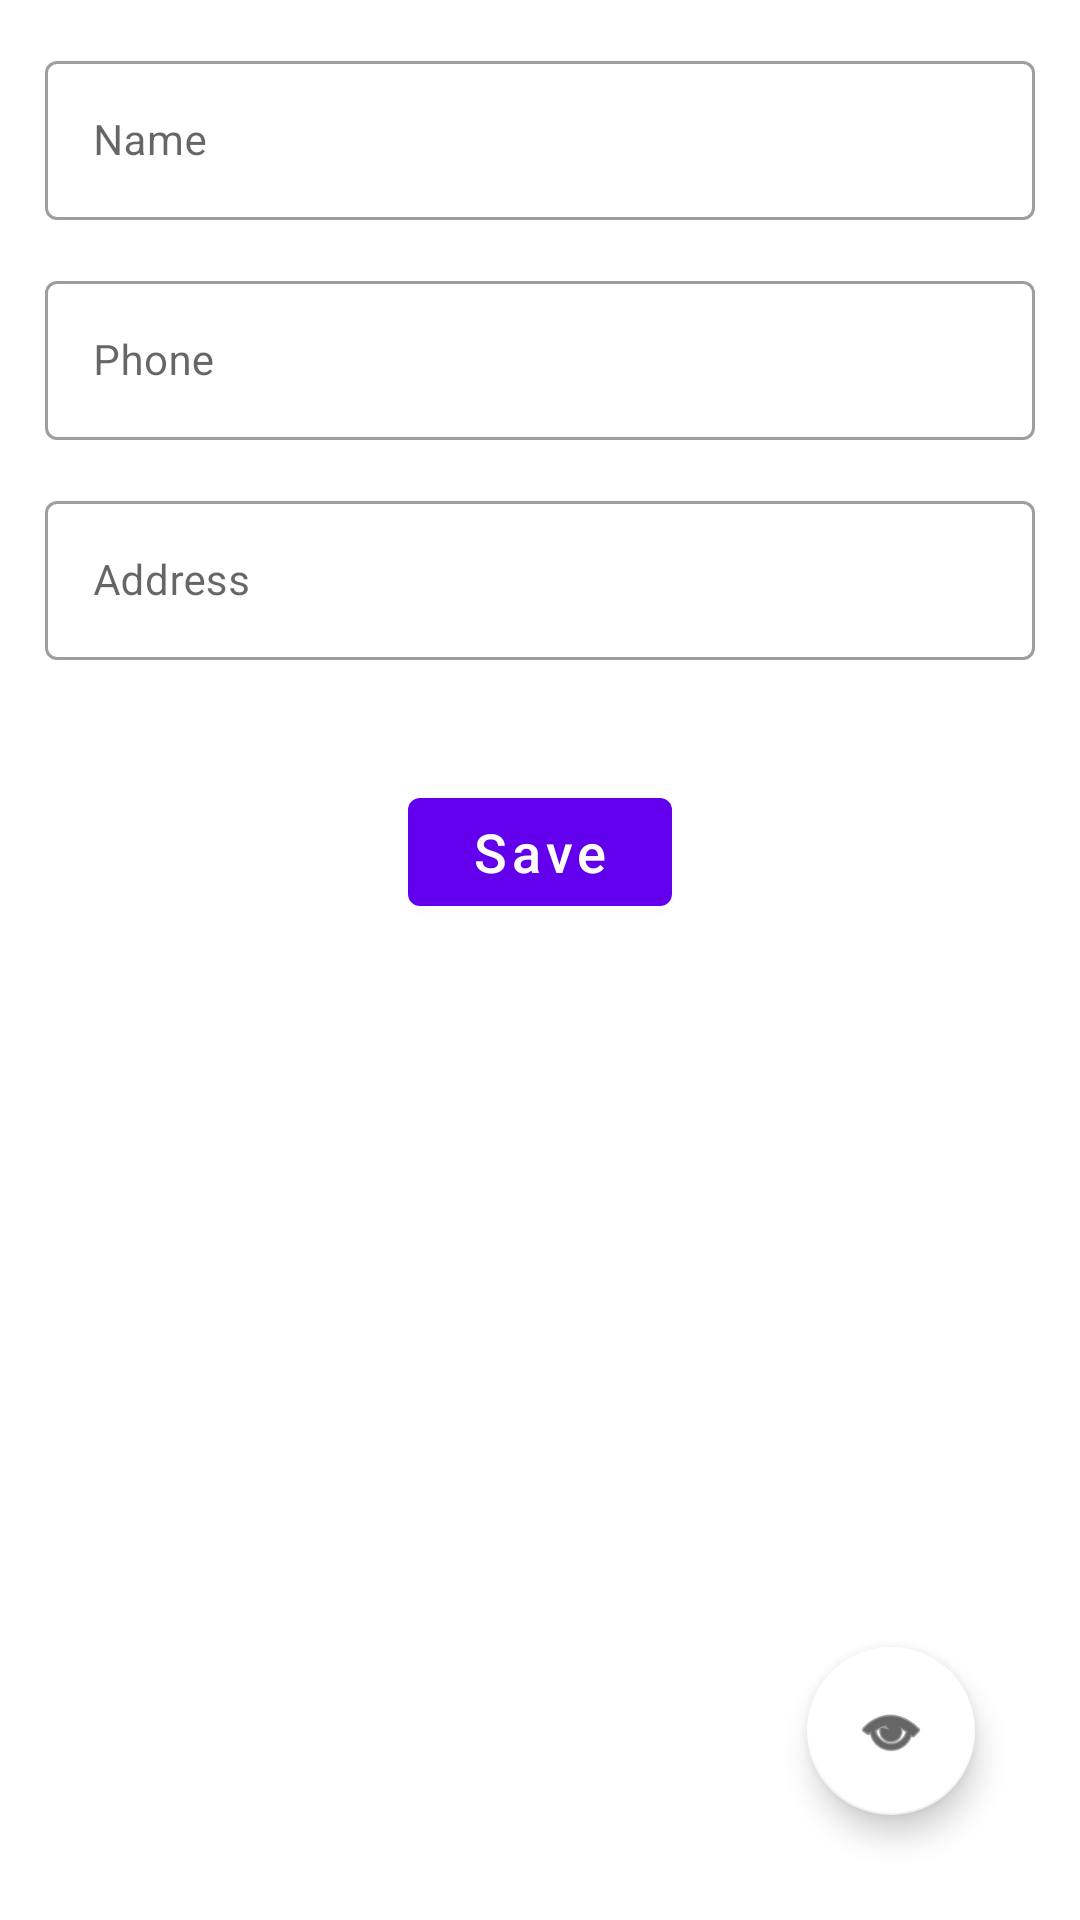

Locate icon controls on the screen. Image size 1080px x 1920px, boxes as BBox(x1, y1, x2, y2).
view: BBox(812, 1714, 920, 1763)
